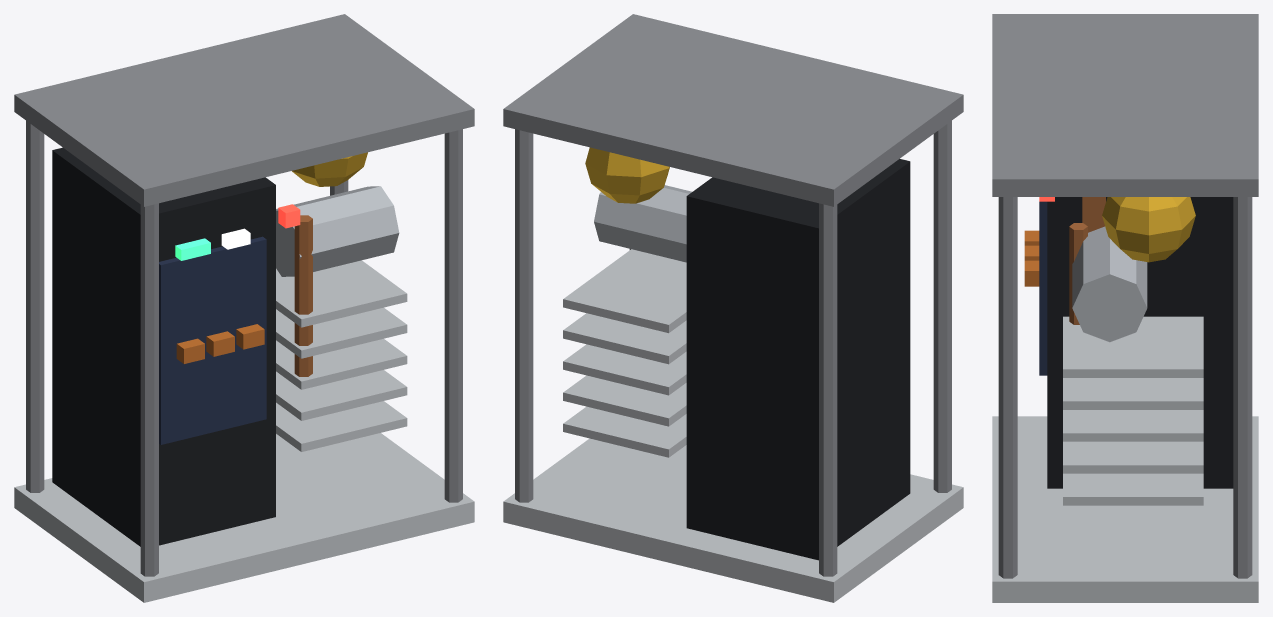
File: cabin-pcdu-thermal.glb
3 renders of one model, left to right at view 1: azimuth 30°, elevation 25°; view 2: azimuth 150°, elevation 25°; view 3: azimuth 270°, elevation 25°, orthographic. The views are drawn at different scales.
Parts seen in each view (by area): view 1: CabinPcduThermal_Titanium, CabinPcduThermal_Aluminum, CabinPcduThermal_HullBlack, CabinPcduThermal_Pack, CabinPcduThermal_Steel, CabinPcduThermal_Copper, CabinPcduThermal_Foam, CabinPcduThermal_FoilGold; view 2: CabinPcduThermal_HullBlack, CabinPcduThermal_Titanium, CabinPcduThermal_Aluminum, CabinPcduThermal_Steel, CabinPcduThermal_FoilGold; view 3: CabinPcduThermal_Titanium, CabinPcduThermal_Aluminum, CabinPcduThermal_HullBlack, CabinPcduThermal_Steel, CabinPcduThermal_FoilGold, CabinPcduThermal_Pack, CabinPcduThermal_Copper, CabinPcduThermal_Foam.
Boxes of the visible parts, bbox=[...] form: CabinPcduThermal_Titanium: bbox=[14, 14, 474, 576]; CabinPcduThermal_Aluminum: bbox=[14, 260, 474, 602]; CabinPcduThermal_HullBlack: bbox=[52, 147, 275, 546]; CabinPcduThermal_Pack: bbox=[159, 236, 266, 444]; CabinPcduThermal_Steel: bbox=[276, 186, 399, 276]; CabinPcduThermal_Copper: bbox=[294, 215, 312, 376]; CabinPcduThermal_Foam: bbox=[176, 324, 264, 363]; CabinPcduThermal_FoilGold: bbox=[292, 152, 367, 186]; CabinPcduThermal_HullBlack: bbox=[686, 159, 910, 560]; CabinPcduThermal_Titanium: bbox=[503, 14, 963, 576]; CabinPcduThermal_Aluminum: bbox=[503, 249, 963, 602]; CabinPcduThermal_Steel: bbox=[594, 185, 692, 262]; CabinPcduThermal_FoilGold: bbox=[585, 147, 669, 203]; CabinPcduThermal_Titanium: bbox=[992, 14, 1258, 578]; CabinPcduThermal_Aluminum: bbox=[992, 316, 1258, 602]; CabinPcduThermal_HullBlack: bbox=[1047, 197, 1233, 488]; CabinPcduThermal_Steel: bbox=[1072, 226, 1147, 342]; CabinPcduThermal_FoilGold: bbox=[1102, 197, 1195, 262]; CabinPcduThermal_Pack: bbox=[1039, 201, 1047, 375]; CabinPcduThermal_Copper: bbox=[1069, 197, 1105, 324]; CabinPcduThermal_Foam: bbox=[1024, 230, 1039, 286].
Bounding box in the file's own units: 0.5 × 0.5975 × 0.34.
